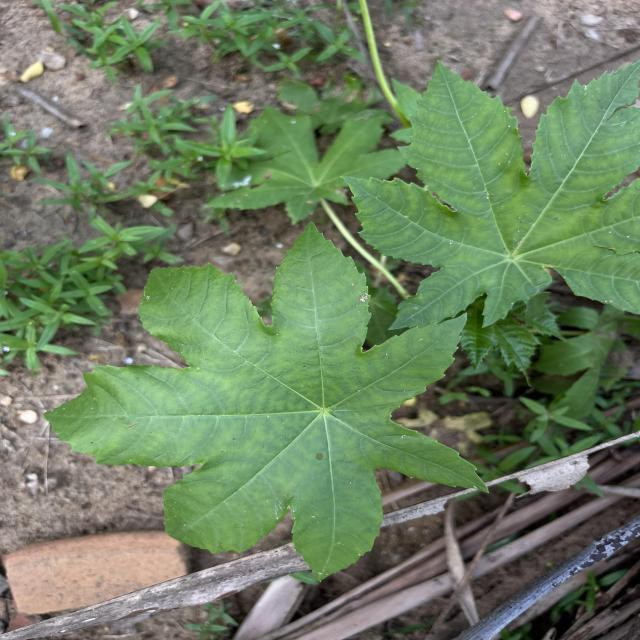Ricinus communis linn: (38, 218, 493, 588)
